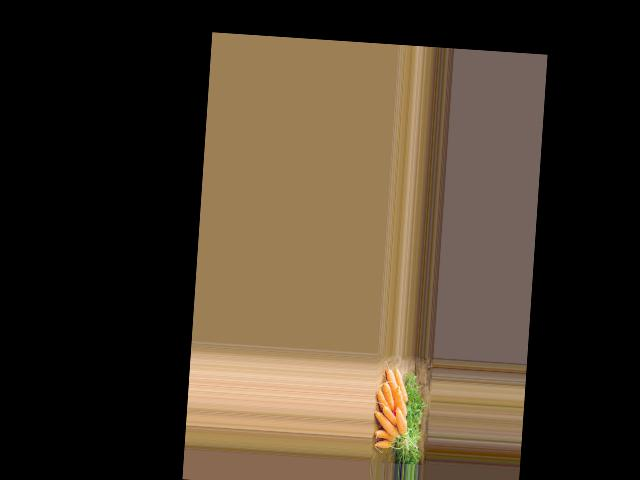carrot: (374, 439, 393, 451)
